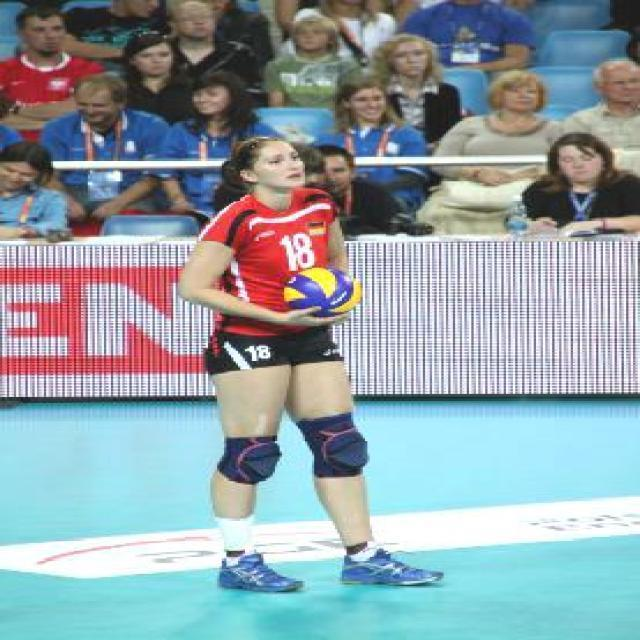volleyball: (284, 267, 361, 317)
